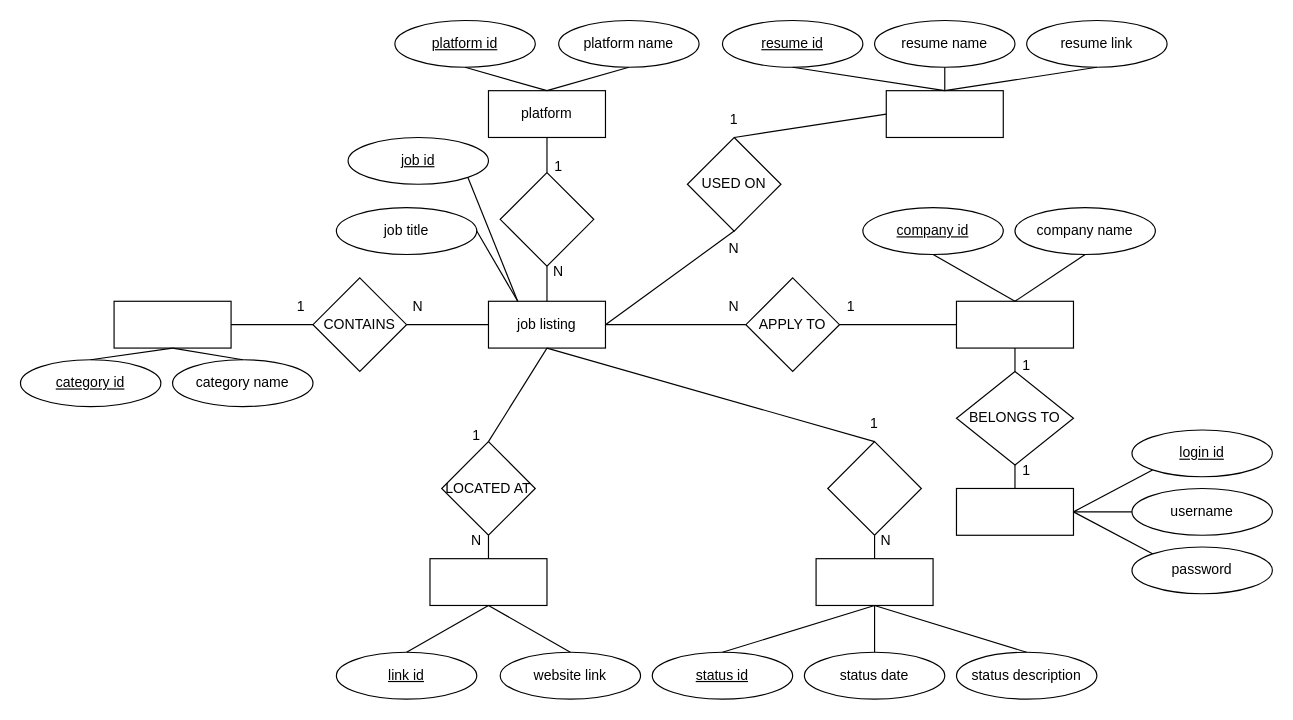
The diagram is 1293 pixels wide and 720 high, and some of its shapes have lost their labels. The centre of each missing label's shape, as x and y in pixels:
company: the point at 1014,324
job category: the point at 172,324
job link: the point at 488,581
job status: the point at 874,581
login: the point at 1014,511
POSTED ON: the point at 546,218
resume: the point at 944,113
UPDATES ARE: the point at 874,488
